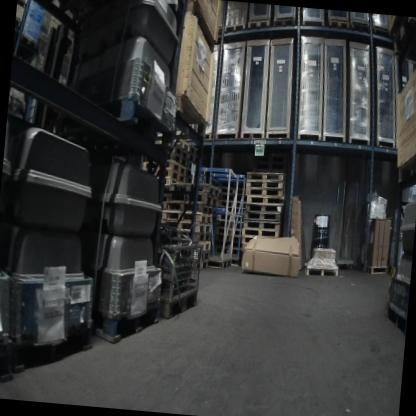pallet: (7, 313, 95, 380), (100, 90, 178, 150), (94, 294, 161, 348), (182, 3, 217, 52), (173, 94, 211, 139), (163, 189, 220, 207), (0, 332, 17, 392), (393, 16, 416, 55), (167, 181, 220, 197), (162, 201, 215, 217), (161, 218, 213, 234), (162, 209, 213, 224), (142, 158, 188, 174), (305, 259, 340, 280), (244, 173, 287, 190), (398, 145, 416, 184), (246, 169, 284, 185), (245, 185, 284, 199), (246, 194, 285, 207), (244, 210, 281, 223), (209, 224, 241, 239), (241, 227, 280, 239), (244, 202, 282, 214), (241, 220, 281, 231), (208, 256, 232, 271), (20, 33, 40, 51), (215, 199, 244, 211), (223, 20, 246, 35), (272, 15, 296, 29), (217, 182, 245, 194), (170, 153, 191, 169), (209, 240, 238, 251), (163, 177, 189, 189), (165, 148, 189, 160), (190, 230, 212, 243), (247, 18, 270, 30), (215, 213, 242, 223), (209, 235, 241, 243), (165, 169, 186, 181), (216, 192, 244, 201), (328, 20, 350, 31), (366, 265, 388, 275), (351, 23, 371, 34), (373, 27, 393, 38), (176, 139, 191, 152), (216, 209, 243, 215), (200, 241, 211, 254), (200, 250, 210, 263), (211, 221, 242, 225), (189, 145, 199, 156), (188, 152, 198, 163), (240, 236, 252, 245), (199, 261, 209, 271), (204, 131, 212, 140)
stillage: (158, 241, 203, 322)
